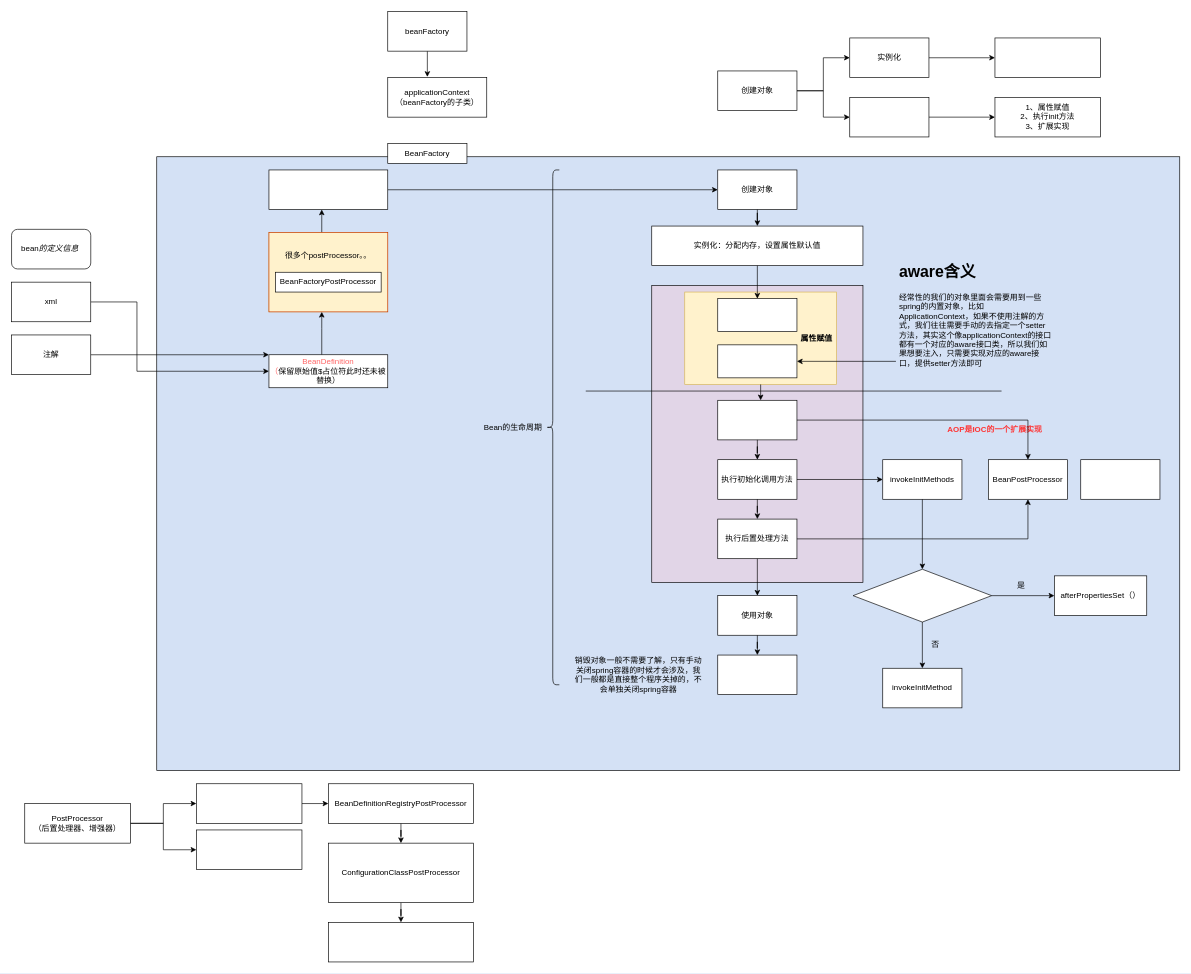
Image size: 1191x974. Some labels were removed from this diagram. Each missing label, with the centre of its shape:
"AOP" goes at [1120,479].
"BeanFactoryPostProcessor (可以完成对bd对象的扩展)" goes at [249,803].
"BeanPostProcessor （对bean对象的扩展）" goes at [249,849].
"Springboot自动装配原理" goes at [401,942].
"分配内存，属性值默认值" goes at [1047,57].
"初始化" goes at [889,117].
"容器对象赋 （Aware接口）" goes at [757,361].
"执行前置处理方法" goes at [757,420].
"是否实现InitializingBean接口" goes at [922,595].
"最终的BD对象" goes at [328,189].
"用户自定义属性赋值" goes at [757,315].
"销毁对象" goes at [757,674].
